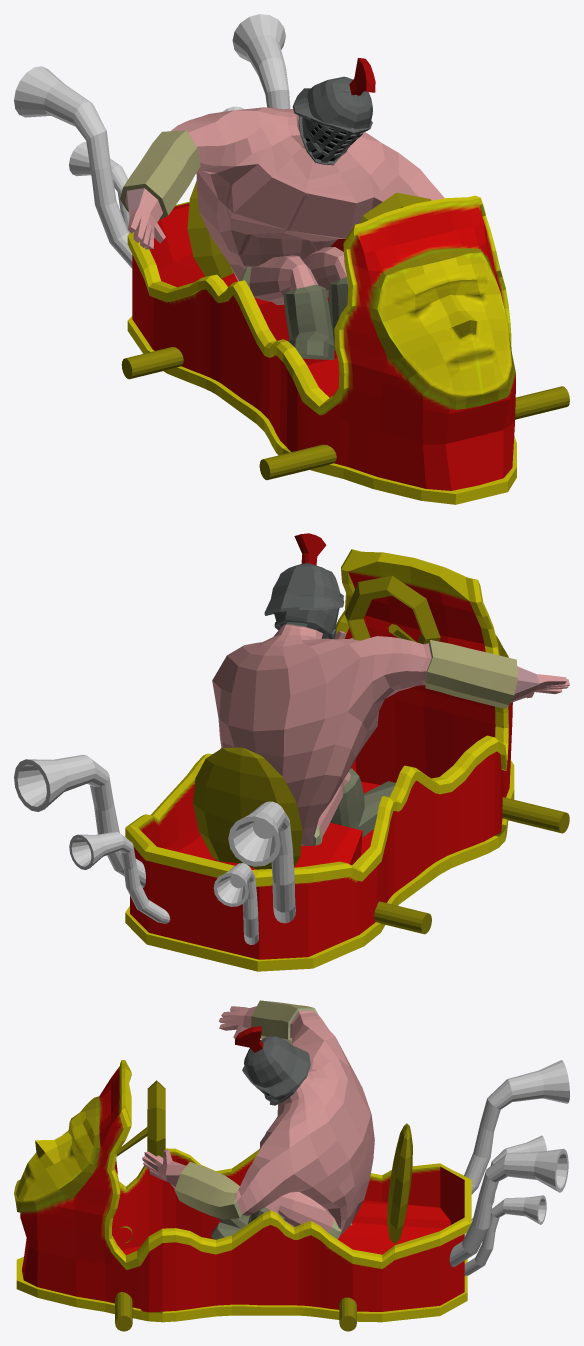
The model's file is gladiVacile_000565.obj.
3 views of the same model, one above another, from view 1: azimuth 30°, elevation 25°; view 2: azimuth 150°, elevation 25°; view 3: azimuth 270°, elevation 25° (orthographic). The views are drawn at different scales.
Parts seen in each view (by area): view 1: GladiChasis_GladiChasisH, Gadiador_Gladiador_H.001, GladiTubos_GladiTubosH, GladiVolante_GladiVolanteH; view 2: GladiChasis_GladiChasisH, Gadiador_Gladiador_H.001, GladiTubos_GladiTubosH, GladiVolante_GladiVolanteH; view 3: GladiChasis_GladiChasisH, Gadiador_Gladiador_H.001, GladiTubos_GladiTubosH, GladiVolante_GladiVolanteH.
Boxes of the visible parts, bbox=[...] form: GladiChasis_GladiChasisH: bbox=[127, 195, 516, 504]; Gadiador_Gladiador_H.001: bbox=[120, 58, 444, 359]; GladiTubos_GladiTubosH: bbox=[14, 14, 290, 268]; GladiVolante_GladiVolanteH: bbox=[121, 181, 569, 480]; GladiChasis_GladiChasisH: bbox=[125, 549, 514, 971]; Gadiador_Gladiador_H.001: bbox=[212, 533, 569, 845]; GladiTubos_GladiTubosH: bbox=[14, 755, 295, 944]; GladiVolante_GladiVolanteH: bbox=[193, 575, 569, 934]; GladiChasis_GladiChasisH: bbox=[14, 1060, 471, 1322]; Gadiador_Gladiador_H.001: bbox=[142, 1000, 374, 1239]; GladiTubos_GladiTubosH: bbox=[449, 1060, 569, 1275]; GladiVolante_GladiVolanteH: bbox=[115, 1080, 412, 1331].
Size of the model in its own units: 6.73 by 5.64 by 10.78.
